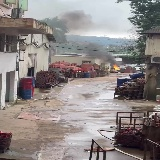fire: (113, 65, 120, 70)
